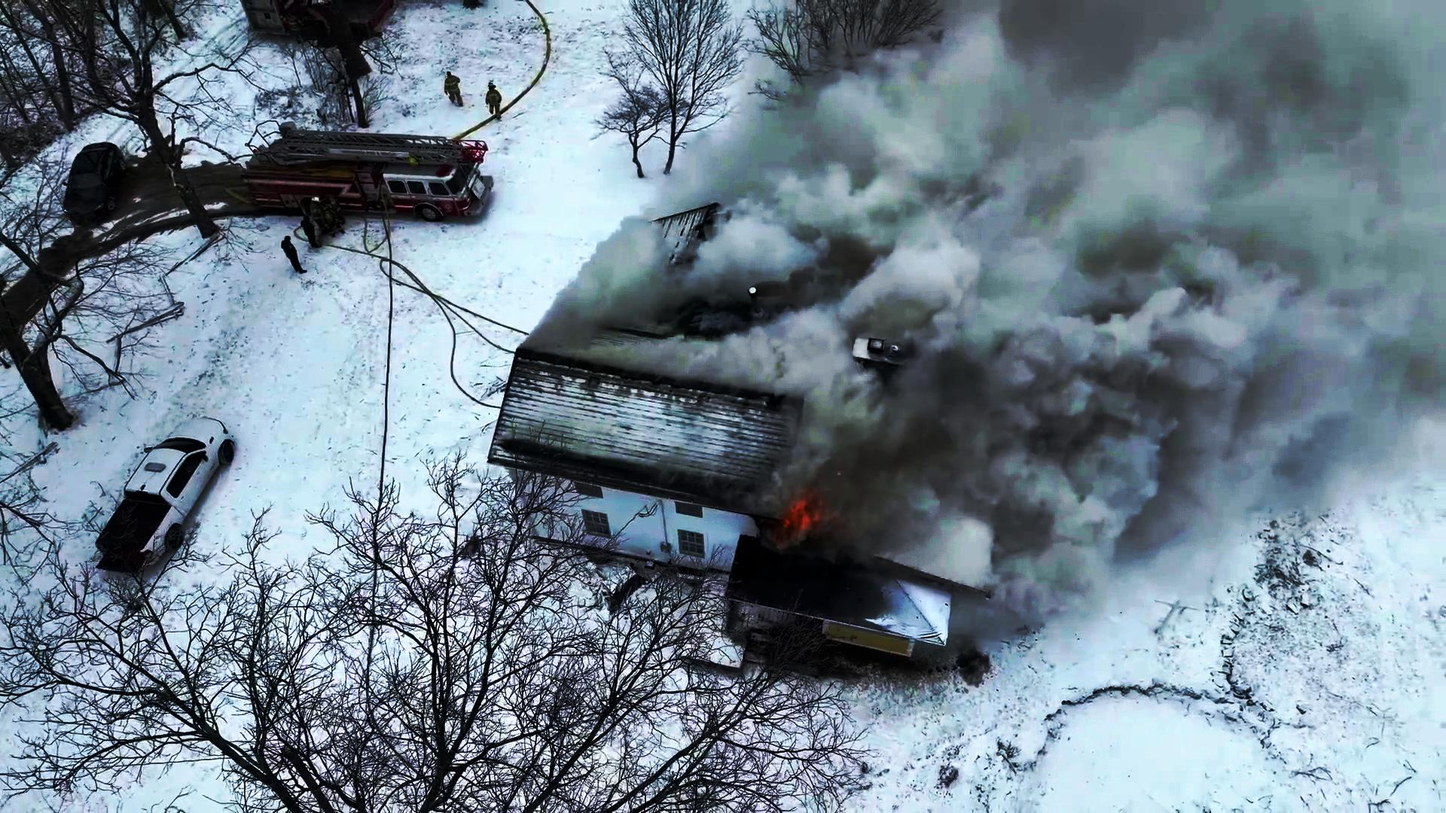fire: (766, 494, 826, 547)
smoke: (889, 49, 1383, 377), (793, 120, 1148, 479)
